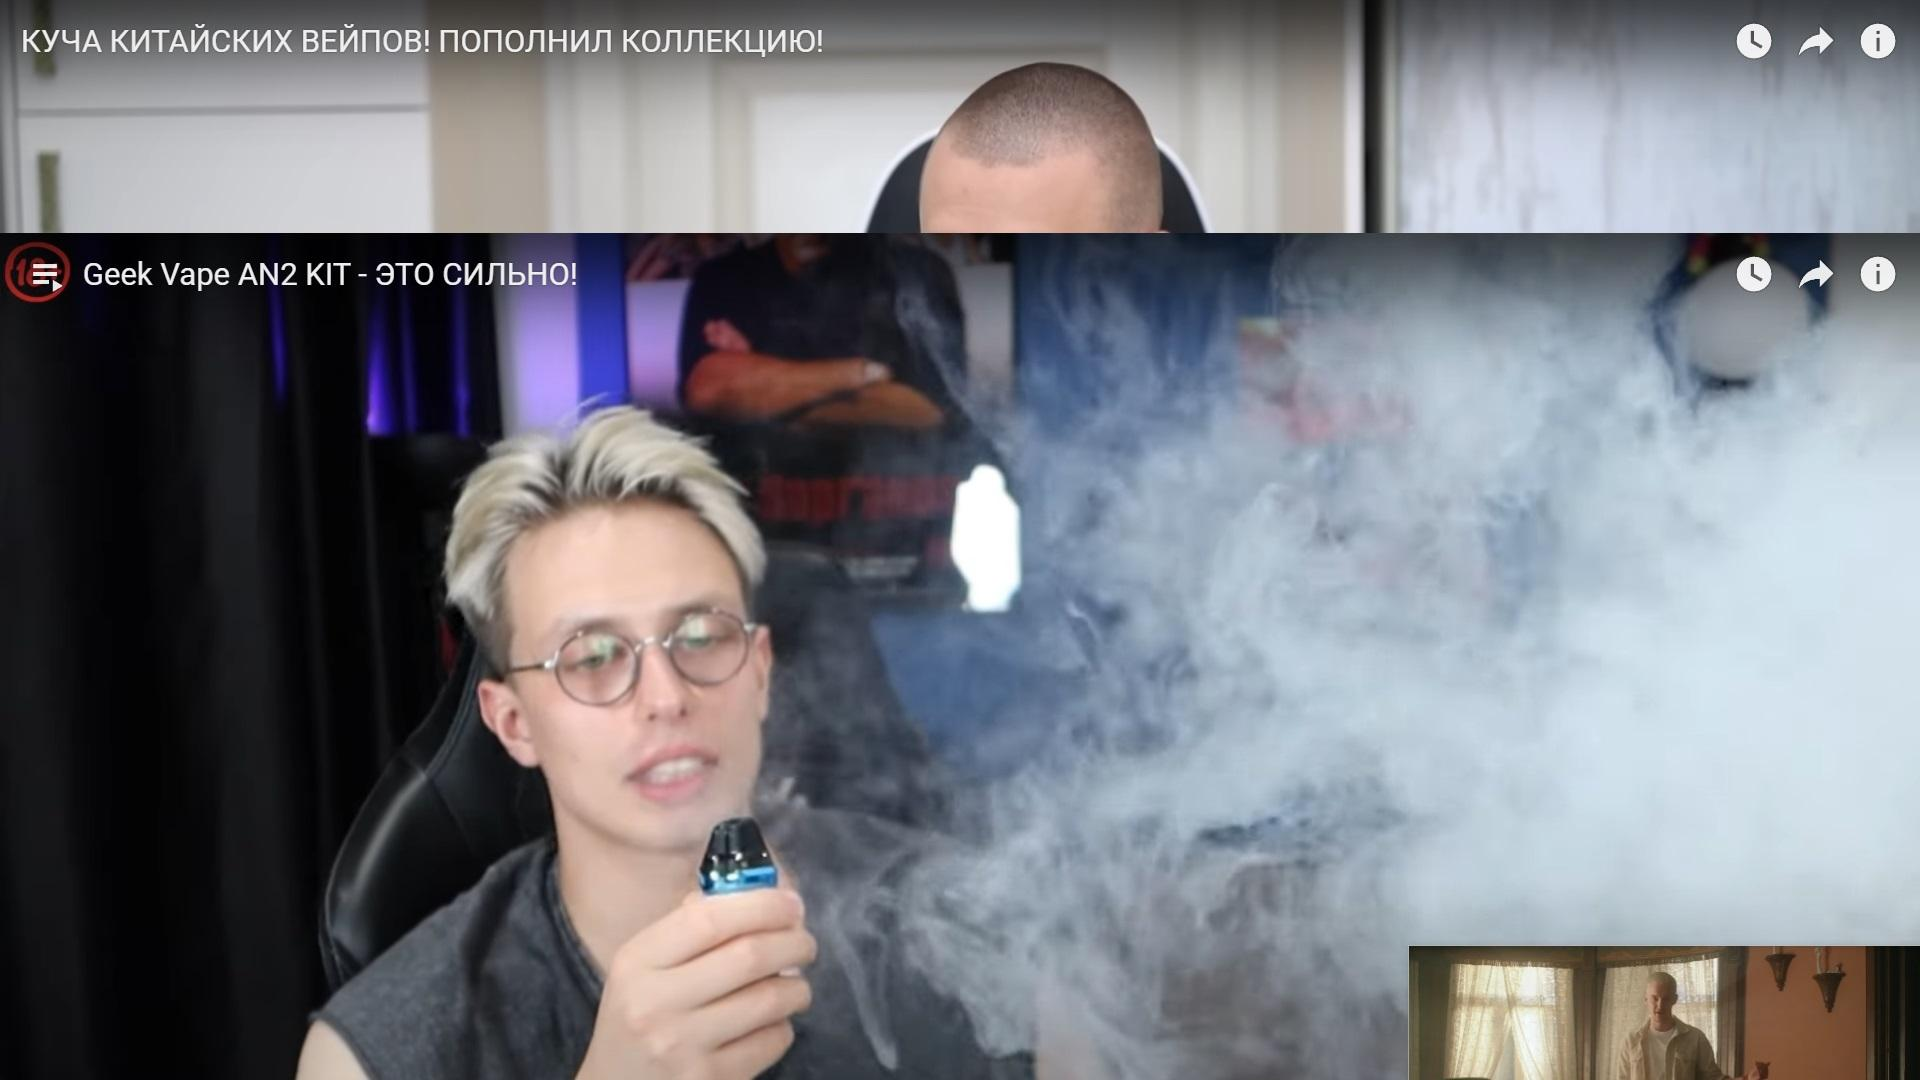Vape: (696, 815, 778, 893)
